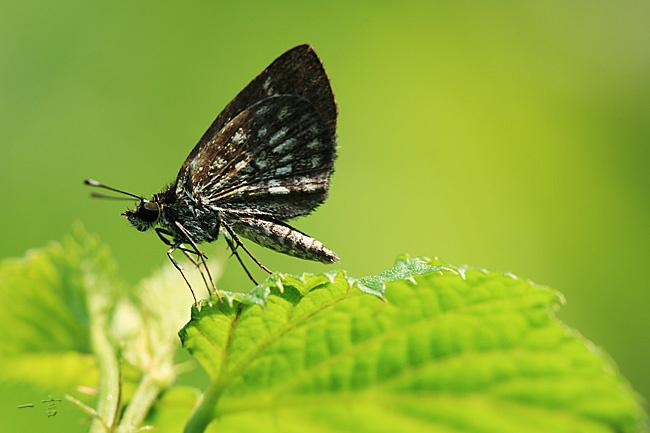Hesperiidae: (76, 41, 350, 309)
